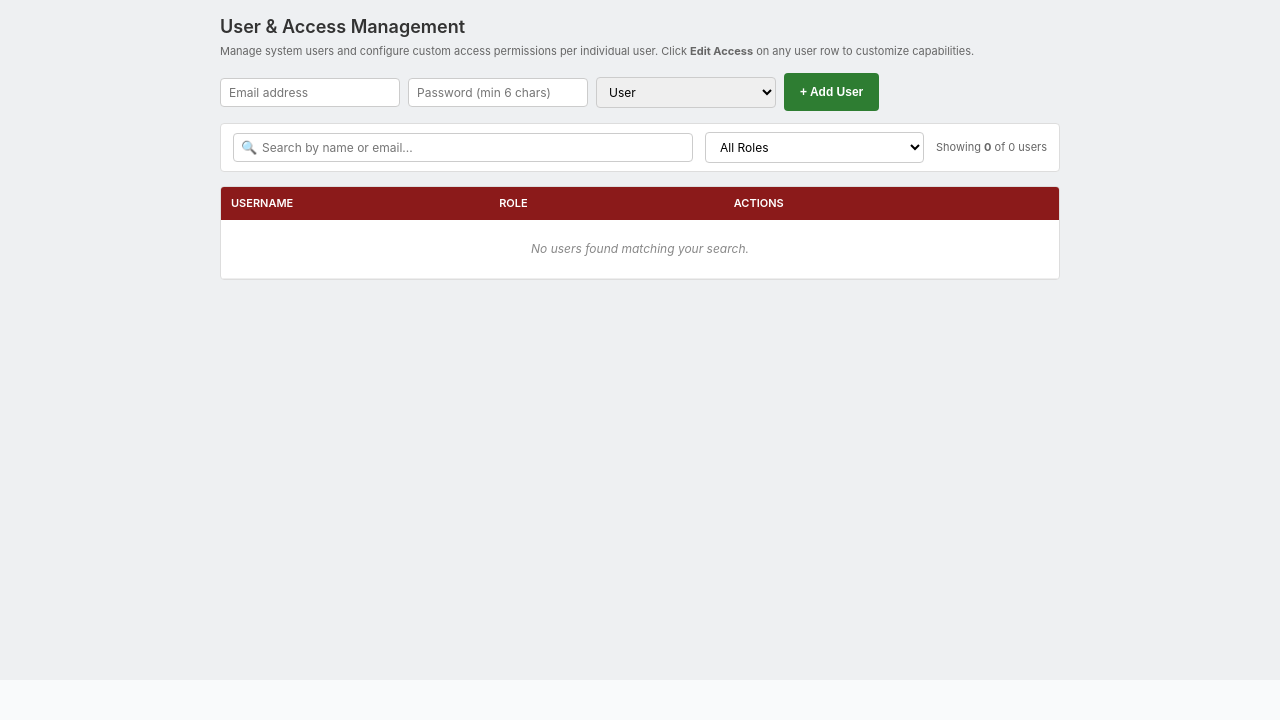
Test: UserManagementView › Add User Form › shows validation error when email is missing
Click the button with class "um-btn-add".
click(832, 92)  # box [784,73,879,111]
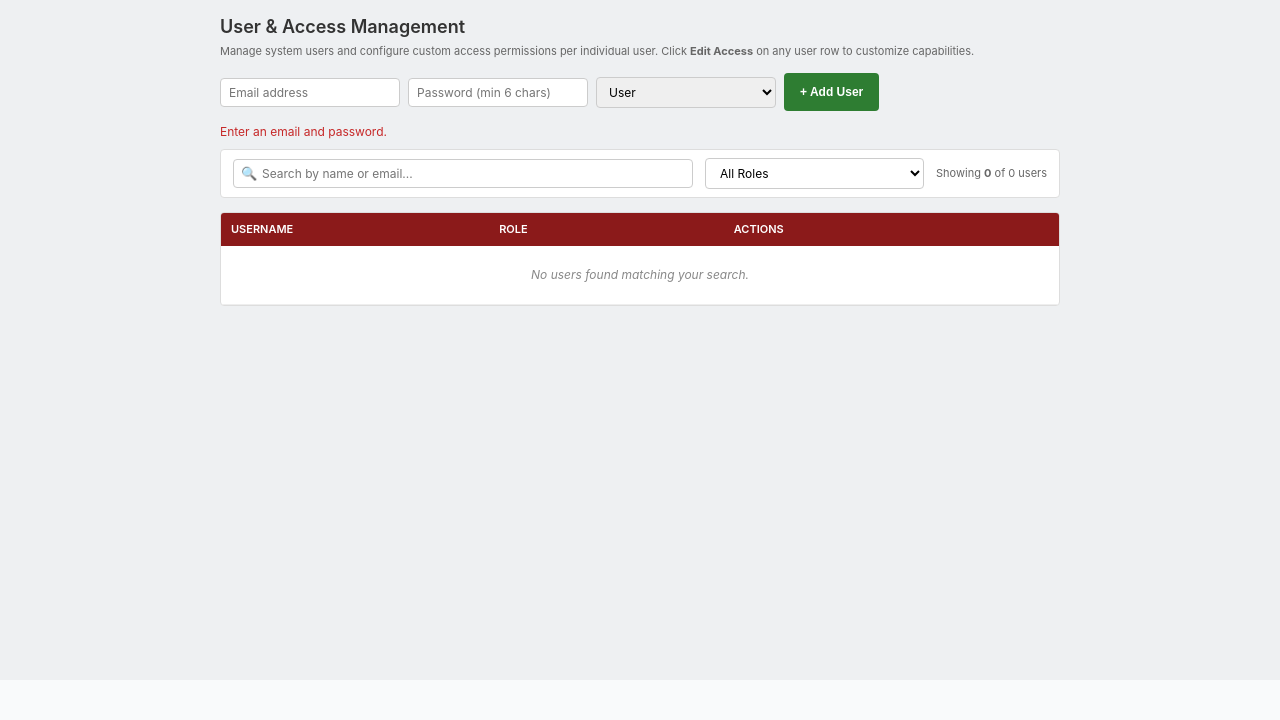
Expected: the text with class "um-error" reads "Enter an email and password.", [220,124,387,139]
